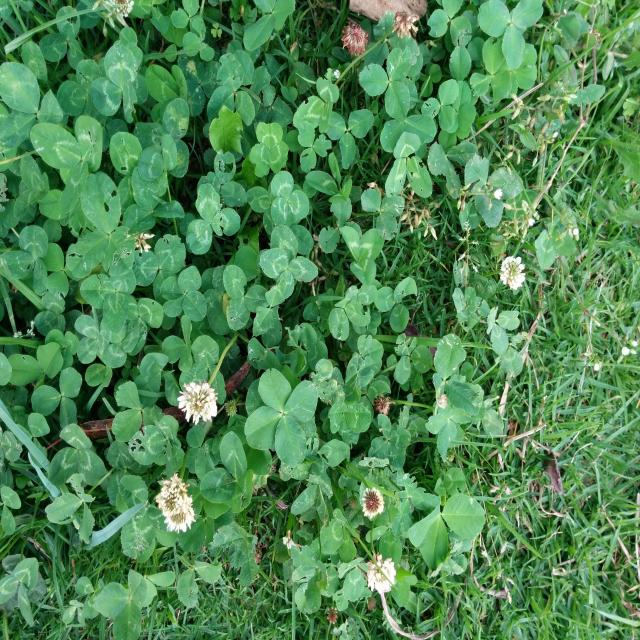Four Leaf Clover: (244, 368, 317, 468)
